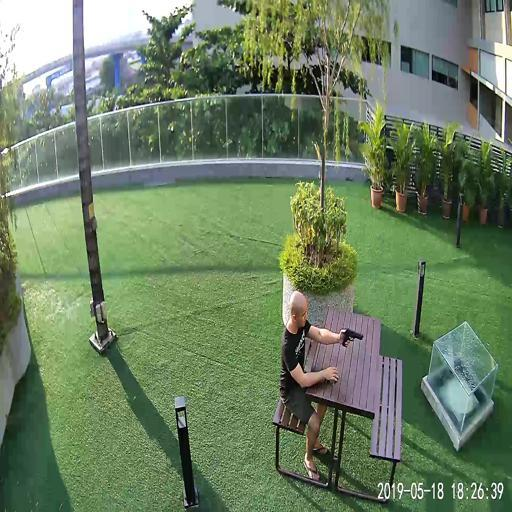Handgun: (341, 325, 362, 346)
